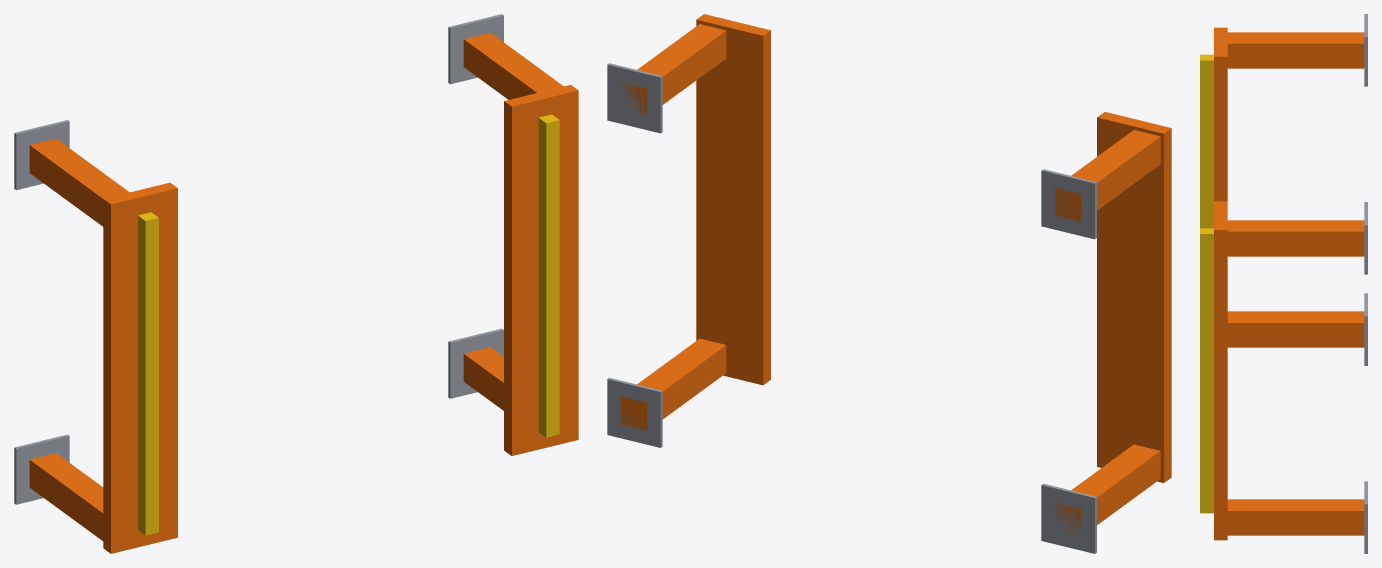
File: station_P3.obj
The picture shows the model from 3 angles, left to right: view 1: azimuth 30°, elevation 25°; view 2: azimuth 150°, elevation 25°; view 3: azimuth 270°, elevation 25°; orthographic projection. The views are drawn at different scales.
Parts seen in each view (by area): view 1: orange, yellow, steel; view 2: orange, steel; view 3: orange, yellow, steel.
Boxes of the visible parts, left/top/right/bottom form: orange: left=29, top=32, right=578, bottom=553; yellow: left=138, top=114, right=559, bottom=535; steel: left=14, top=14, right=503, bottom=504; orange: left=620, top=14, right=1171, bottom=535; steel: left=607, top=63, right=1096, bottom=553; orange: left=1214, top=27, right=1364, bottom=540; yellow: left=1200, top=54, right=1213, bottom=513; steel: left=1364, top=14, right=1367, bottom=553.
Bounding box in the file's own units: 1.46 × 1.06 × 0.49.
